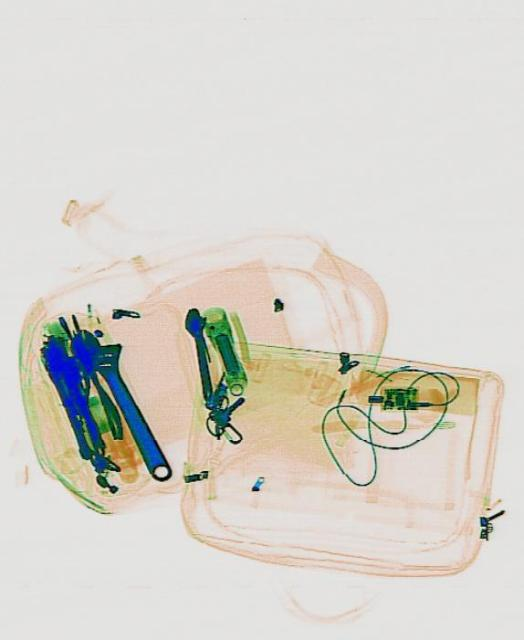Pliers: (54, 323, 121, 449)
Wrench: (65, 312, 188, 488), (180, 306, 218, 400)
